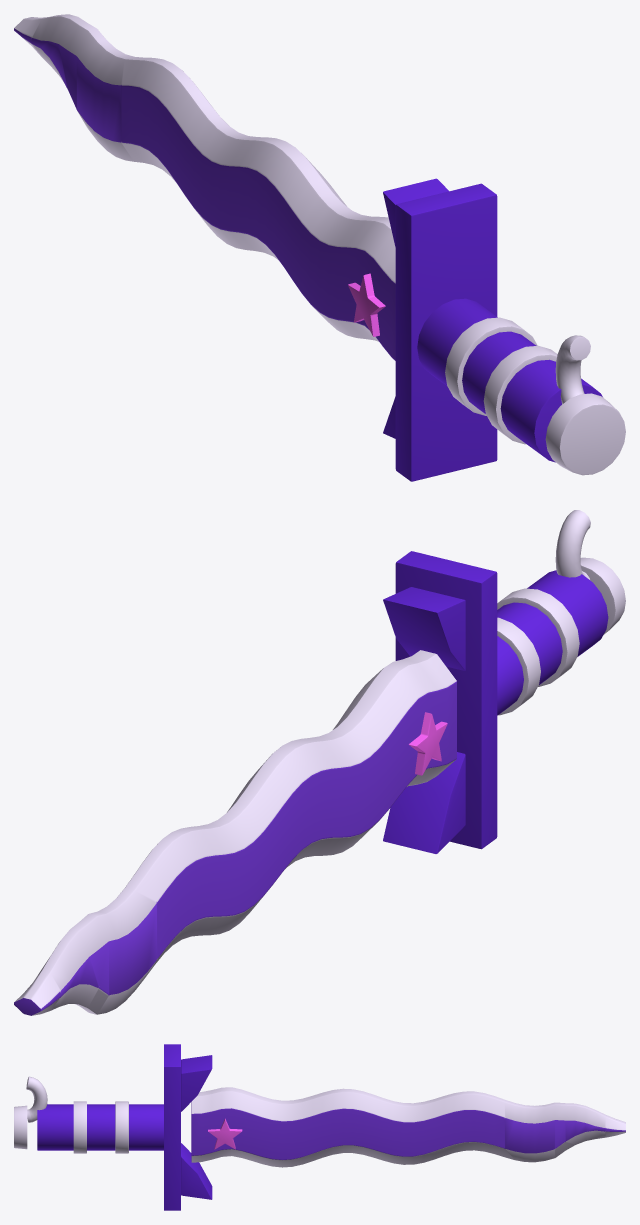
Rendered from Sword_NightfallKris.glb.
The picture shows the model from 3 angles, top to bottom: view 1: azimuth 30°, elevation 25°; view 2: azimuth 150°, elevation 25°; view 3: azimuth 270°, elevation 25°; orthographic projection. The views are drawn at different scales.
Parts seen in each view (by area): view 1: Sword_NightfallKris; view 2: Sword_NightfallKris; view 3: Sword_NightfallKris.
Boxes of the visible parts, left/top/right/bottom form: Sword_NightfallKris: left=14, top=14, right=625, bottom=481; Sword_NightfallKris: left=14, top=510, right=625, bottom=1015; Sword_NightfallKris: left=14, top=1044, right=625, bottom=1210.
Size of the model in its own units: 0.088 by 0.26 by 1.
1 material, 1 textured.
